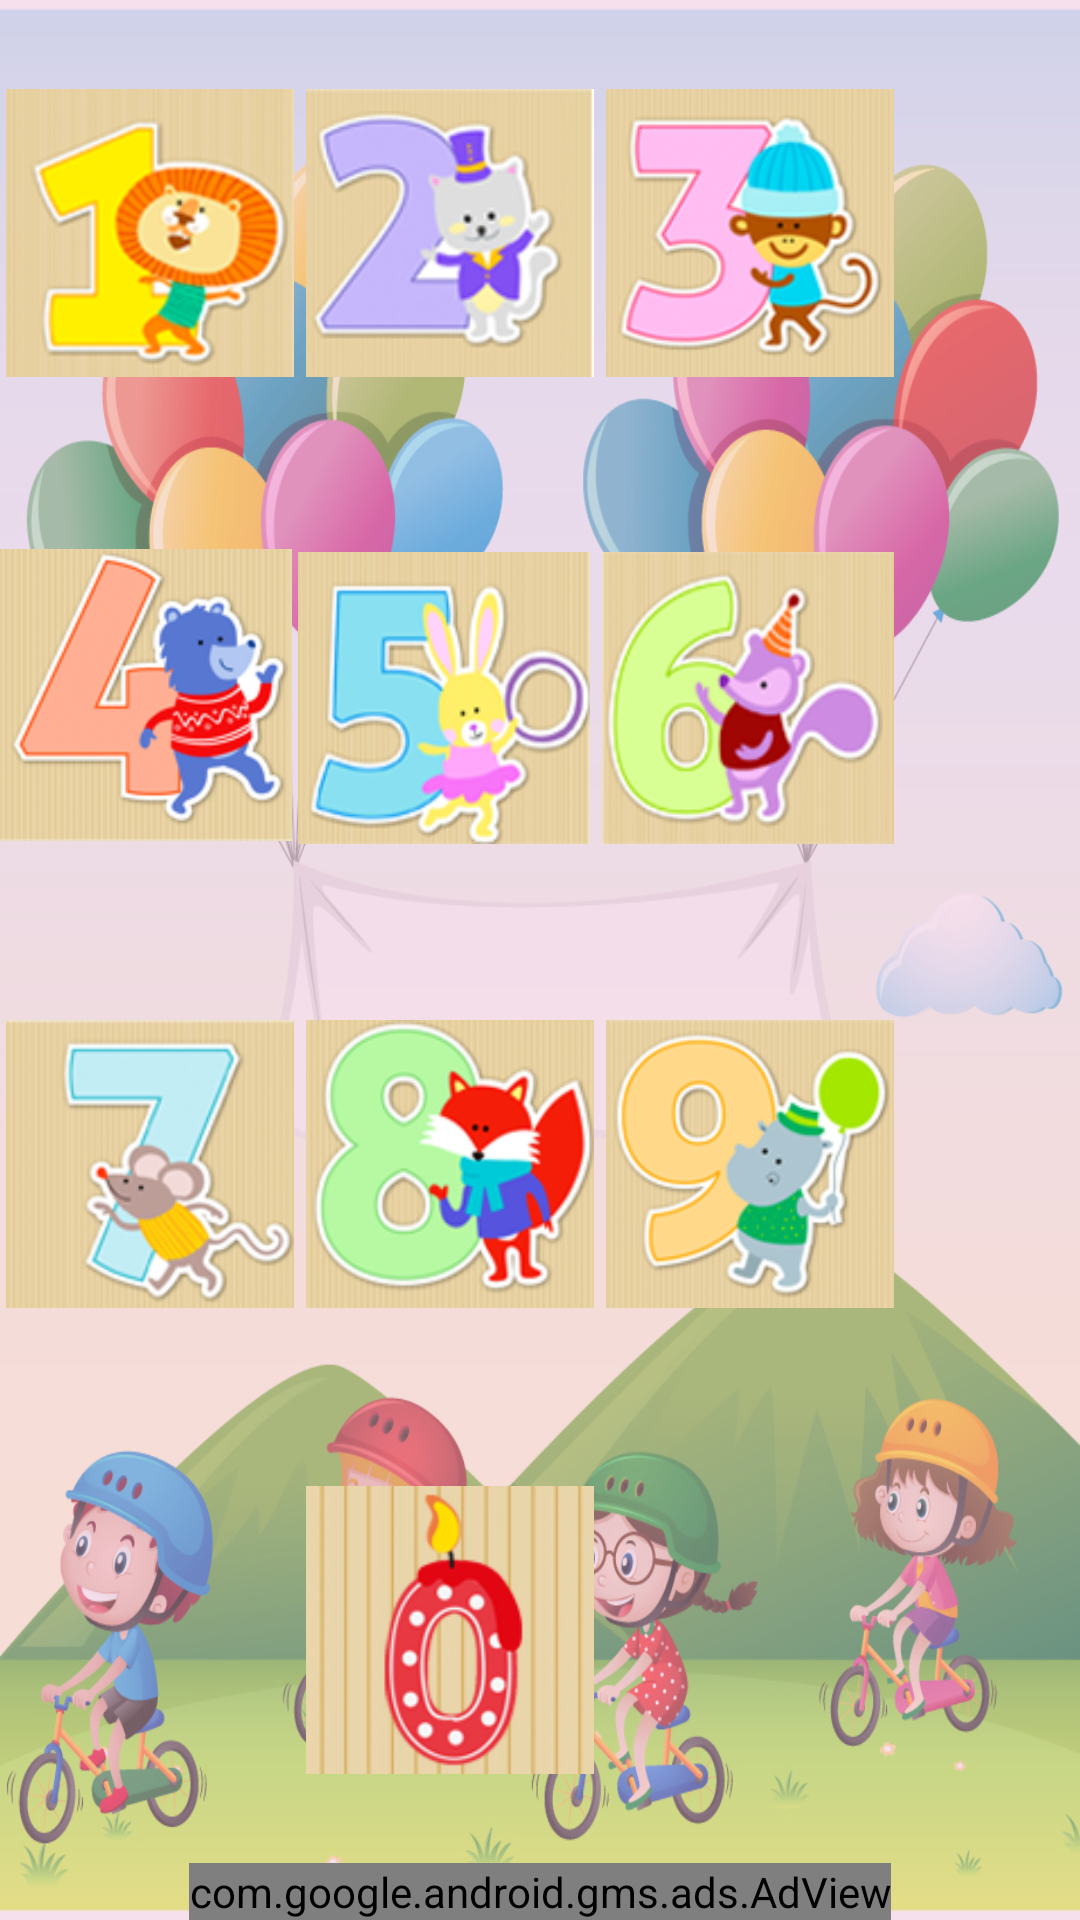

Locate icon controls on the screen. Image size 1080px×1920px, boxes as [left=x1, top=y1, right=x2, bottom=y2].
seven: [left=6, top=1020, right=294, bottom=1308]
